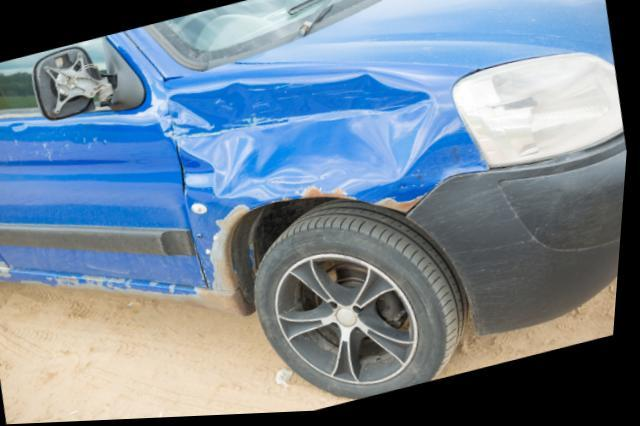dent: (162, 76, 437, 208)
no part: (35, 47, 121, 120)
